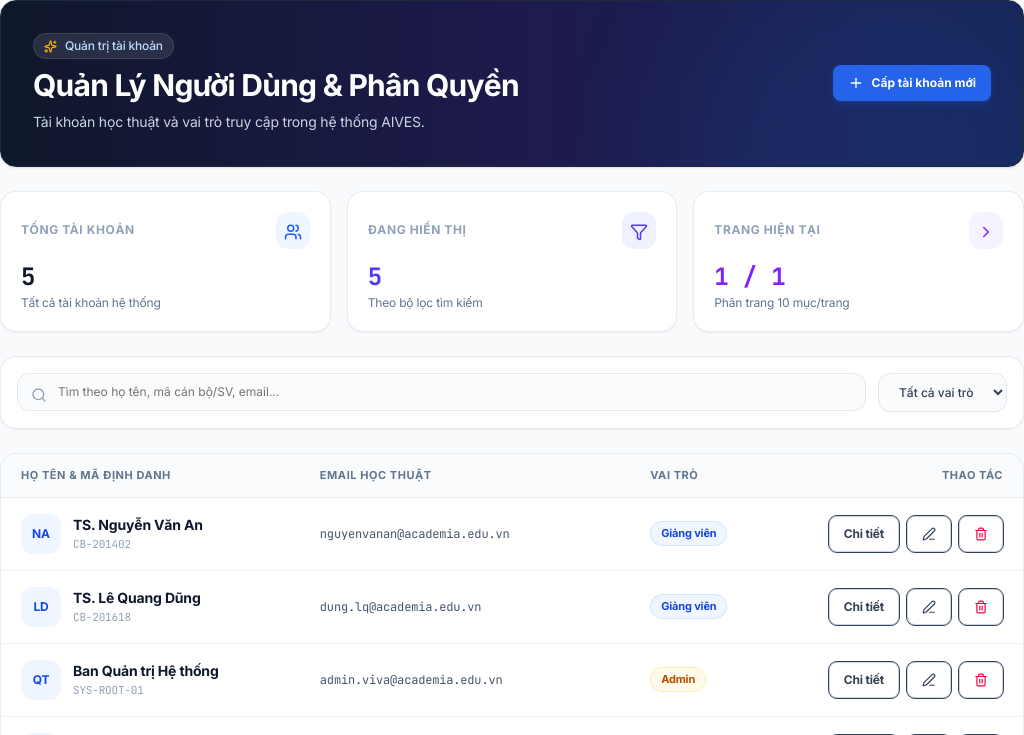
Test: Admin User Delete Confirmation › opens confirmation modal in UserManagementPage and supports cancel & confirm
Expected: the link "TS. Nguyễn Văn An" is shown, [73,516,203,533]
Expected: the heading "Xác nhận xóa tài khoản" is not shown
Note: Click delete on TS. Nguyễn Văn An
Click the button named "Xóa TS. Nguyễn Văn An": click(981, 534) [959,516,1003,552]
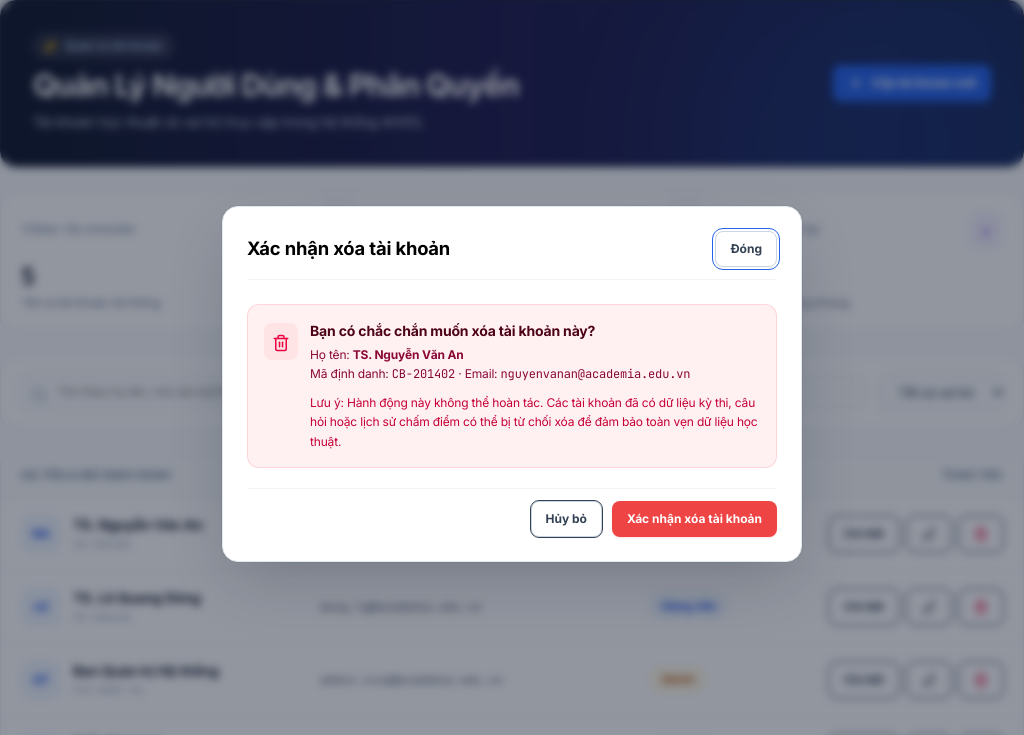
Expected: the heading "Xác nhận xóa tài khoản" is shown, [247,235,450,262]
Expected: the text "Bạn có chắc chắn muốn xóa tài khoản này?" is shown, [310,322,595,339]
Note: Click "Hủy bỏ"
Click the button "Hủy bỏ": click(566, 519) [530,501,602,537]
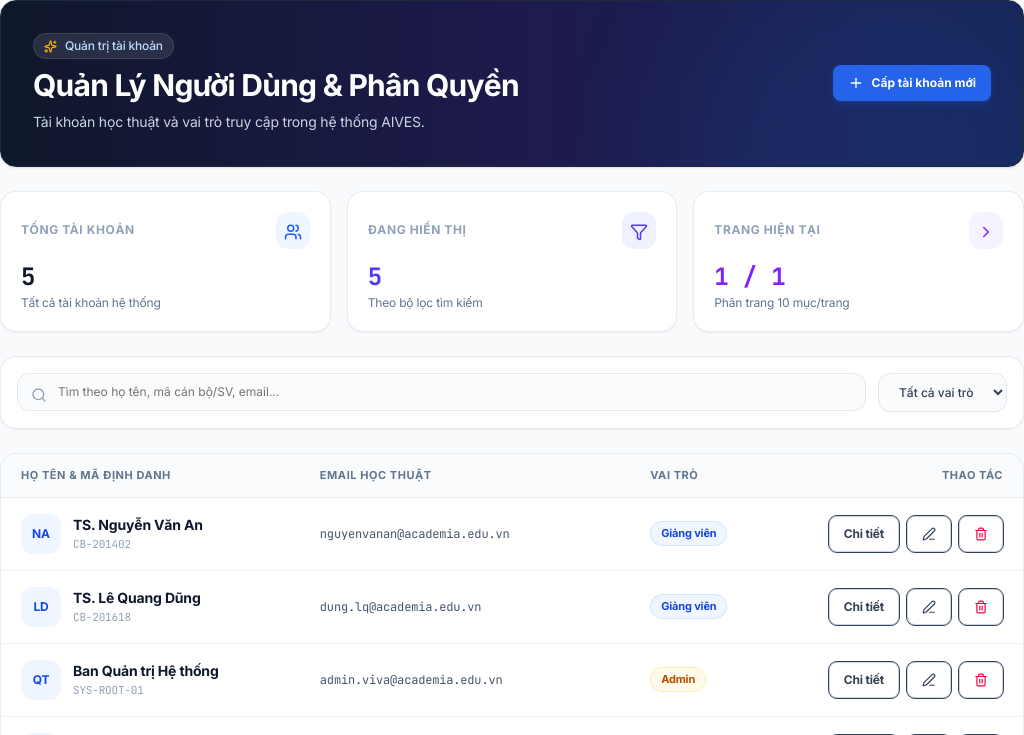
Expected: the link "TS. Nguyễn Văn An" is shown, [73,516,203,533]
Expected: the heading "Xác nhận xóa tài khoản" is gone
Note: Click delete again and confirm
Click the button named "Xóa TS. Nguyễn Văn An": click(981, 534) [959,516,1003,552]
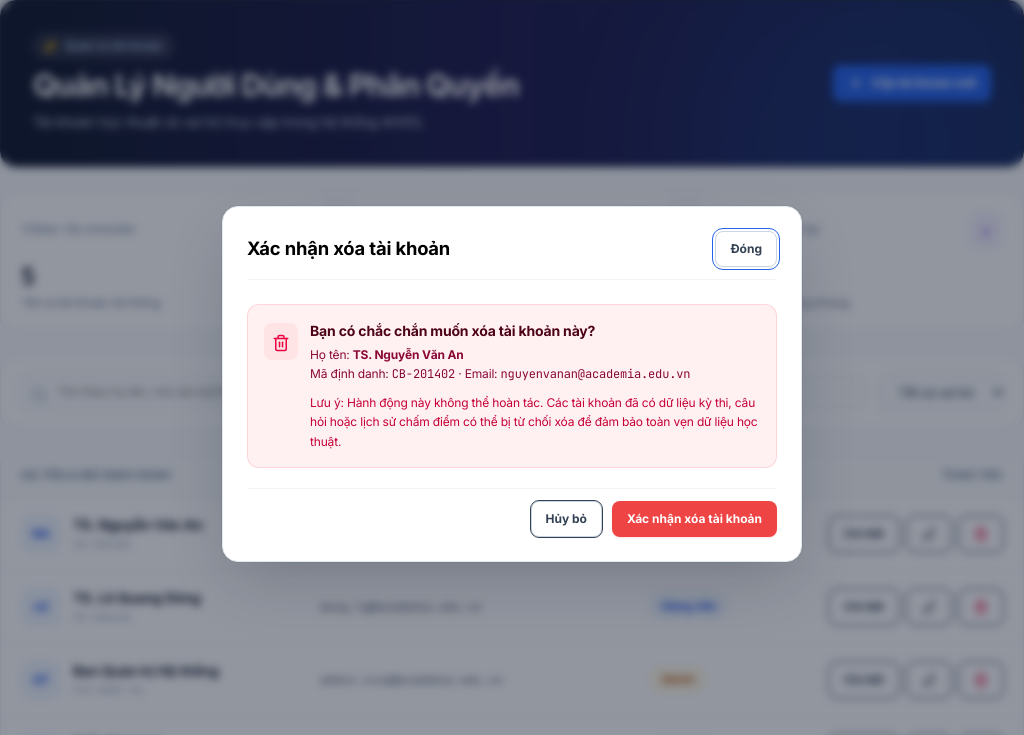
Expected: the heading "Xác nhận xóa tài khoản" is shown, [247,235,450,262]
Click the button "Xác nhận xóa tài khoản": click(694, 519) [612,501,777,537]
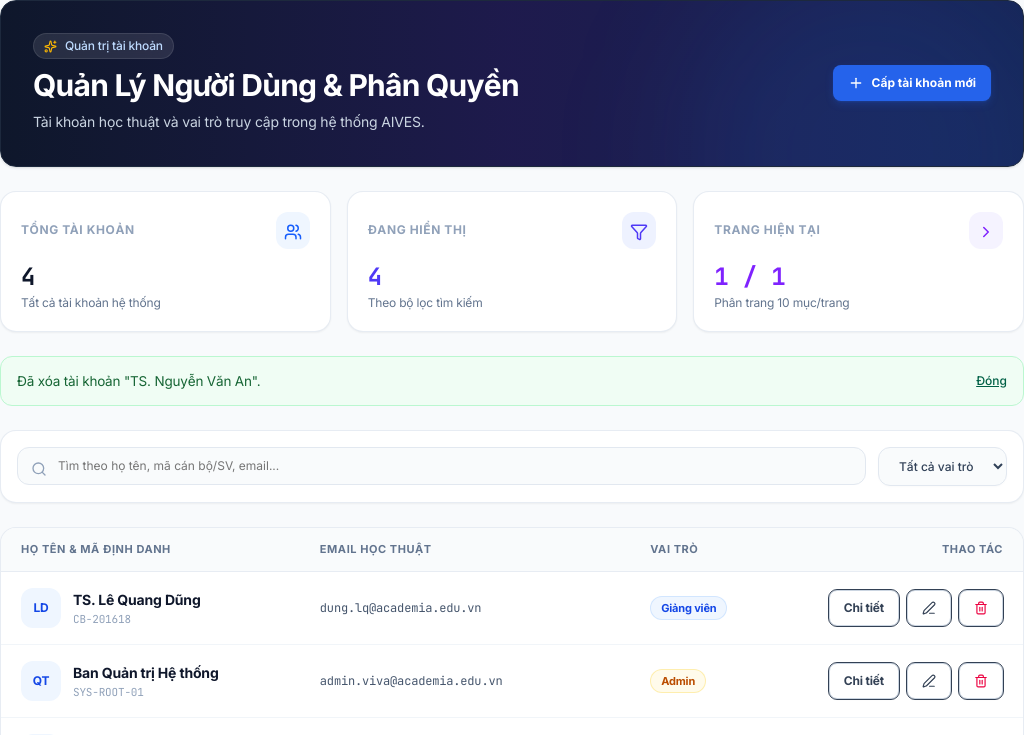
Expected: the text "Đã xóa tài khoản \"TS. Nguyễn Văn An\"." is shown, [17,371,260,391]
